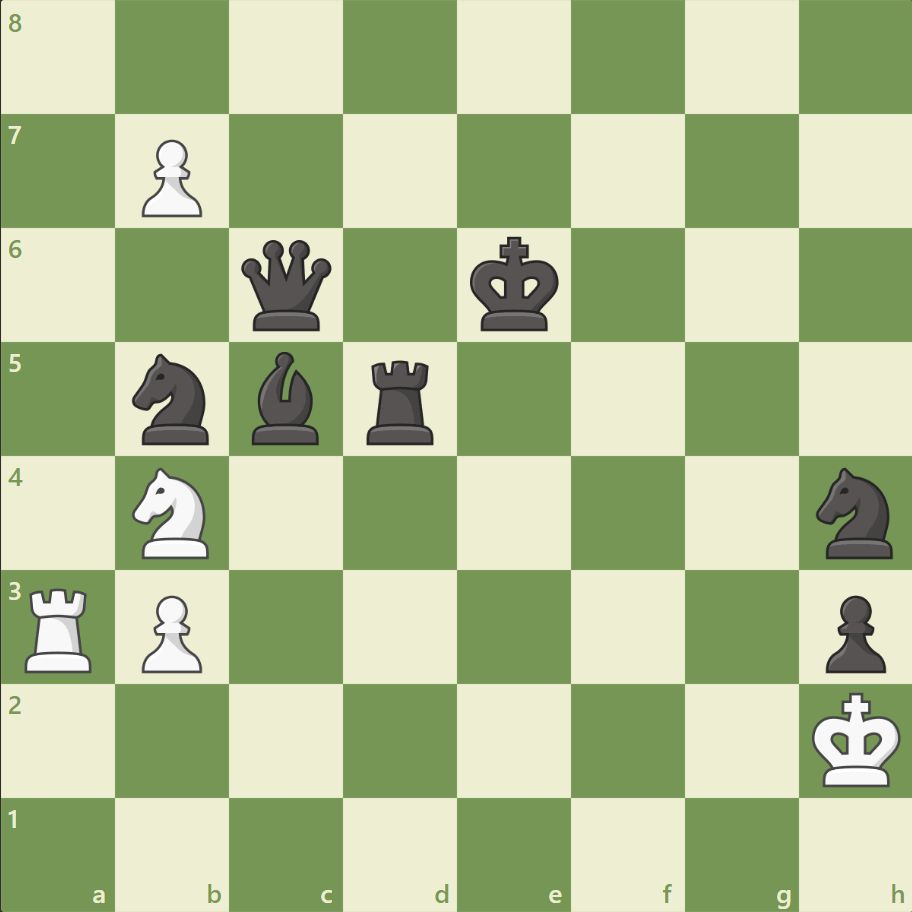K: (806, 685, 906, 793)
N: (124, 461, 222, 564)
P: (133, 132, 208, 223), (133, 586, 208, 677)
R: (19, 579, 102, 676)
b: (244, 347, 328, 449)
k: (465, 231, 565, 339)
n: (124, 348, 222, 450), (806, 461, 903, 564)
p: (815, 586, 889, 677)
q: (237, 236, 336, 335)
r: (360, 352, 442, 449)
